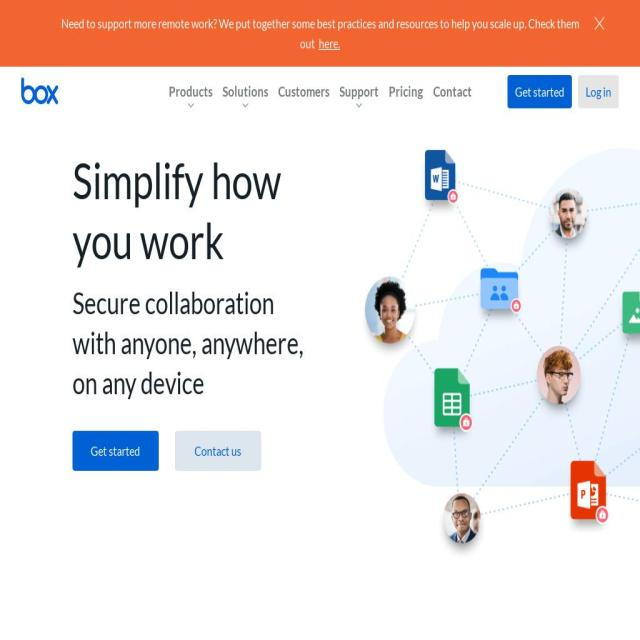button: (72, 430, 159, 471), (175, 430, 262, 471), (507, 75, 572, 108), (272, 76, 334, 105), (217, 76, 273, 105), (163, 76, 218, 105), (334, 76, 384, 105), (427, 76, 477, 105), (578, 75, 619, 108), (383, 76, 428, 105), (21, 78, 59, 109), (585, 8, 614, 38)
heading: (72, 149, 312, 270), (72, 282, 312, 402), (72, 633, 568, 640)
image: (328, 66, 640, 566), (21, 78, 59, 104)
link: (319, 35, 340, 51)
text: (61, 15, 580, 51)
